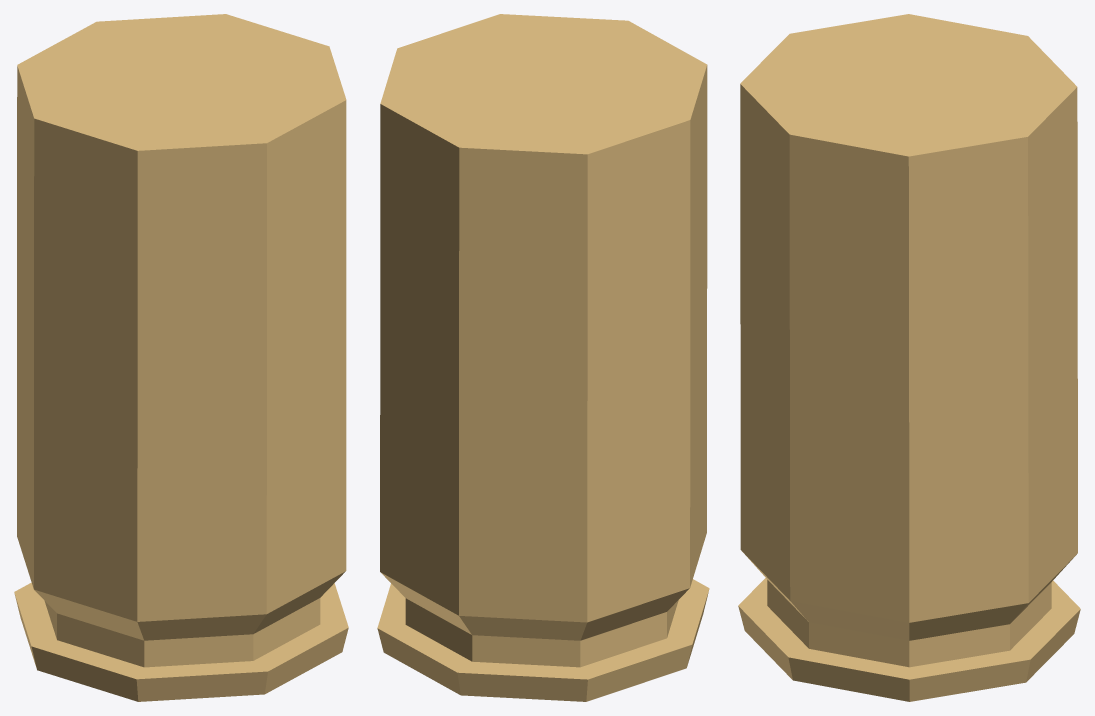
File: 9x19casing.glb
The picture shows the model from 3 angles, left to right: view 1: azimuth 30°, elevation 25°; view 2: azimuth 150°, elevation 25°; view 3: azimuth 270°, elevation 25°; orthographic projection.
Parts seen in each view (by area): view 1: 9x19mm_Glock19.002_Cube.001; view 2: 9x19mm_Glock19.002_Cube.001; view 3: 9x19mm_Glock19.002_Cube.001.
Part boxes in pixels (box(x1,y1,x2,y2)): 9x19mm_Glock19.002_Cube.001: box(14, 14, 348, 701); 9x19mm_Glock19.002_Cube.001: box(377, 14, 709, 701); 9x19mm_Glock19.002_Cube.001: box(738, 14, 1080, 701).
Bounding box in the file's own units: 0.131 × 0.2319 × 0.1309.
